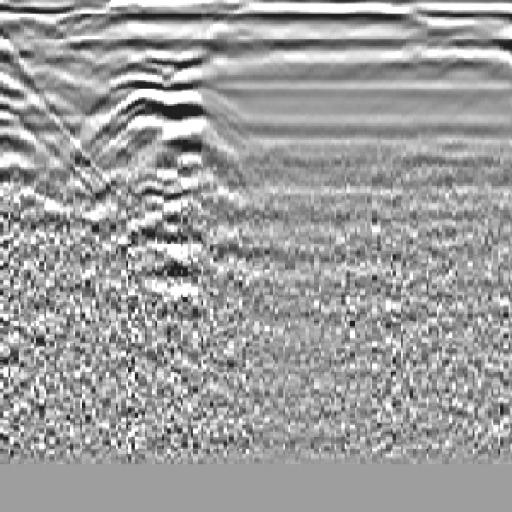metalic: (72, 57, 265, 222)
